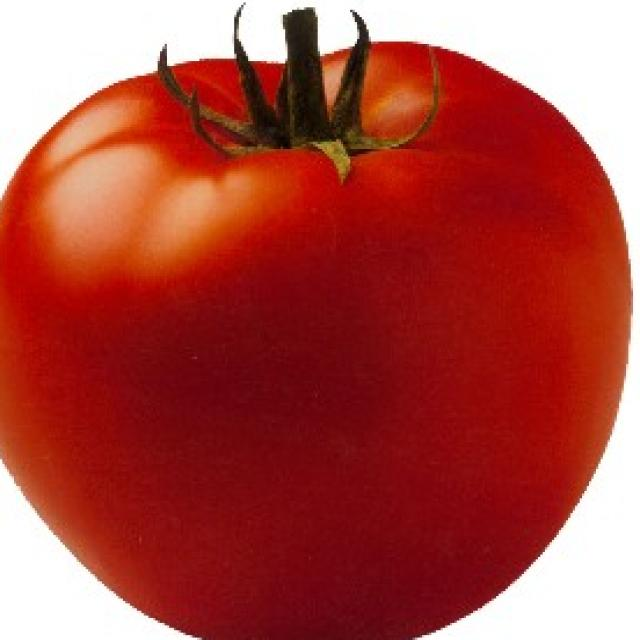tomato: (0, 0, 633, 640)
